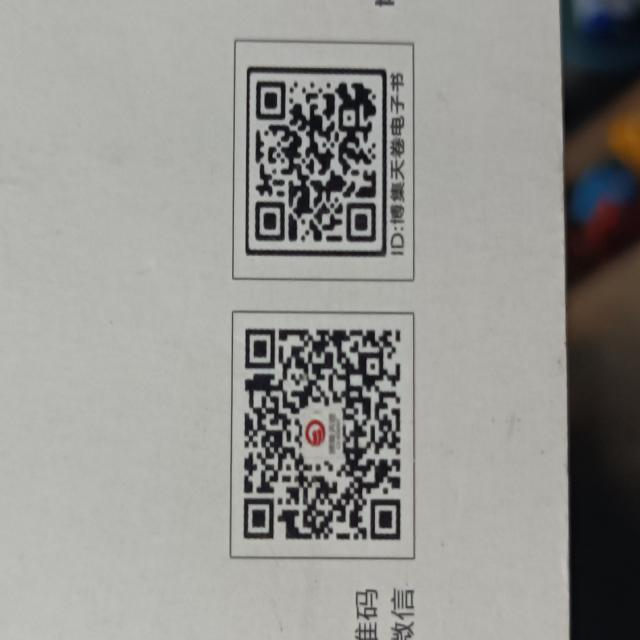qr_code: (242, 327, 402, 542), (254, 78, 378, 244)
